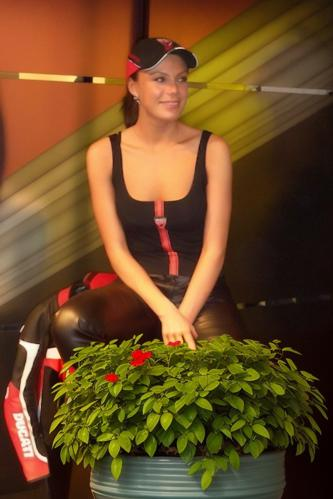person: (52, 38, 277, 499)
pottedplant: (48, 331, 332, 499)
